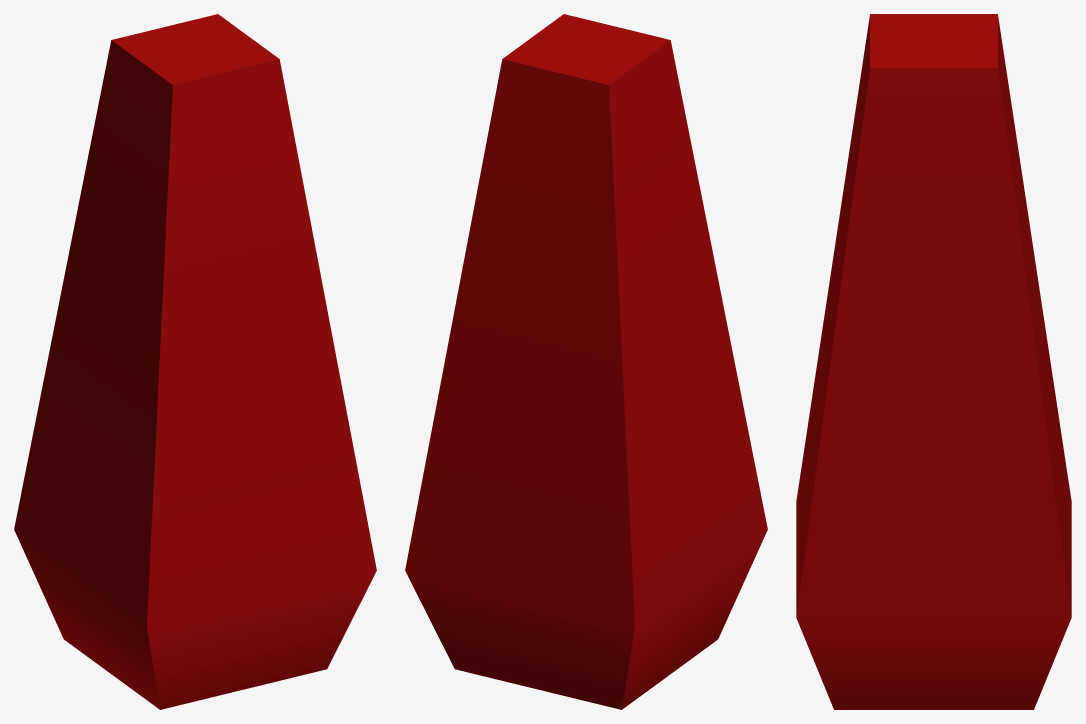
Rendered from SM_Env_Bush_Palm_04_Collision.glb.
3 views of the same model, side by side, from view 1: azimuth 30°, elevation 25°; view 2: azimuth 150°, elevation 25°; view 3: azimuth 270°, elevation 25° (orthographic). The views are drawn at different scales.
Visible parts, largest first — view 1: SM_Env_Bush_Palm_04_Collision; view 2: SM_Env_Bush_Palm_04_Collision; view 3: SM_Env_Bush_Palm_04_Collision.
Part boxes in pixels (left/top/right/bottom): SM_Env_Bush_Palm_04_Collision: left=14, top=14, right=376, bottom=709; SM_Env_Bush_Palm_04_Collision: left=405, top=14, right=767, bottom=709; SM_Env_Bush_Palm_04_Collision: left=796, top=14, right=1071, bottom=709.
Bounding box in the file's own units: 0.5811 × 1.46 × 0.5811.
